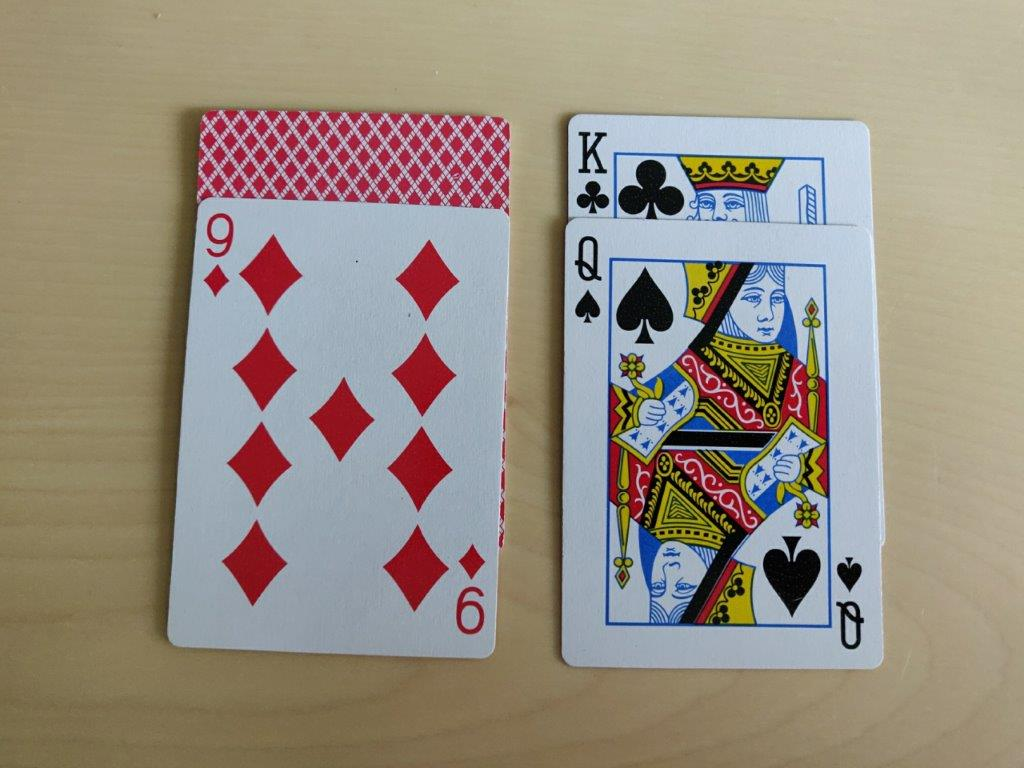9D: (198, 205, 235, 303)
BACK: (197, 107, 512, 209)
KC: (570, 117, 613, 214)
QS: (566, 229, 609, 330)
